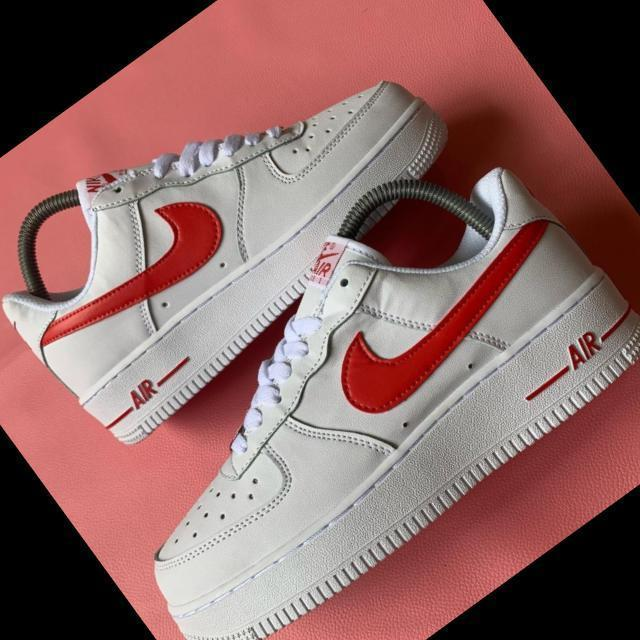nike original air force: (41, 112, 640, 640), (0, 0, 492, 463)
